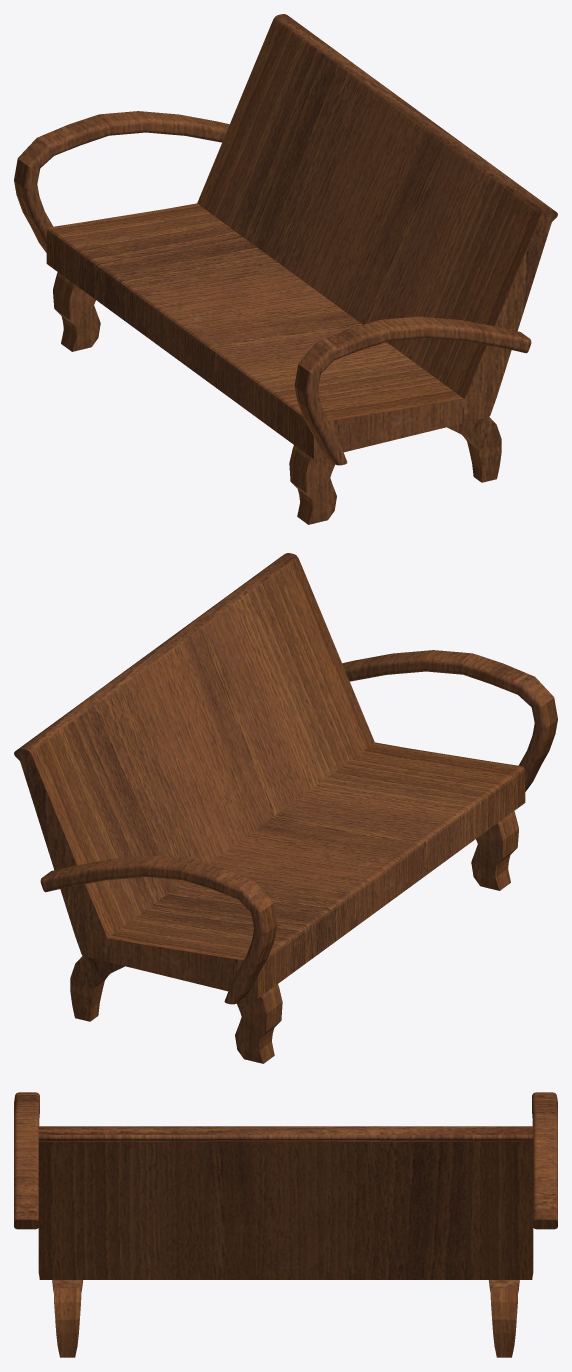
File: long_chair.fbx
3 views of the same model, one above another, from view 1: azimuth 30°, elevation 25°; view 2: azimuth 150°, elevation 25°; view 3: azimuth 270°, elevation 25° (orthographic). The views are drawn at different scales.
Parts seen in each view (by area): view 1: Long_Chair; view 2: Long_Chair; view 3: Long_Chair.
Boxes of the visible parts, bbox=[...] form: Long_Chair: bbox=[14, 14, 557, 524]; Long_Chair: bbox=[14, 553, 557, 1063]; Long_Chair: bbox=[14, 1092, 557, 1357].
Bounding box in the file's own units: 961 × 929 × 1850.
1 material, 1 textured.
